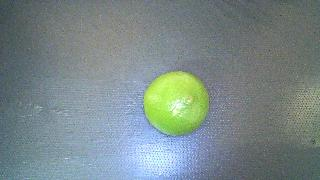EXPORTACION: (143, 71, 209, 136)
